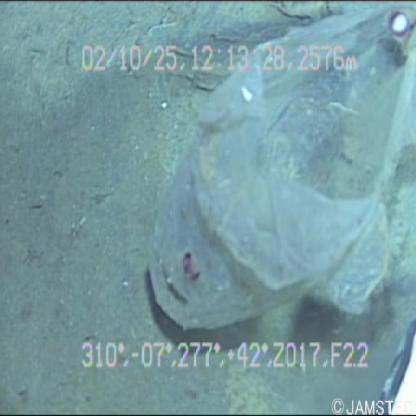Rác: (128, 2, 416, 355)
